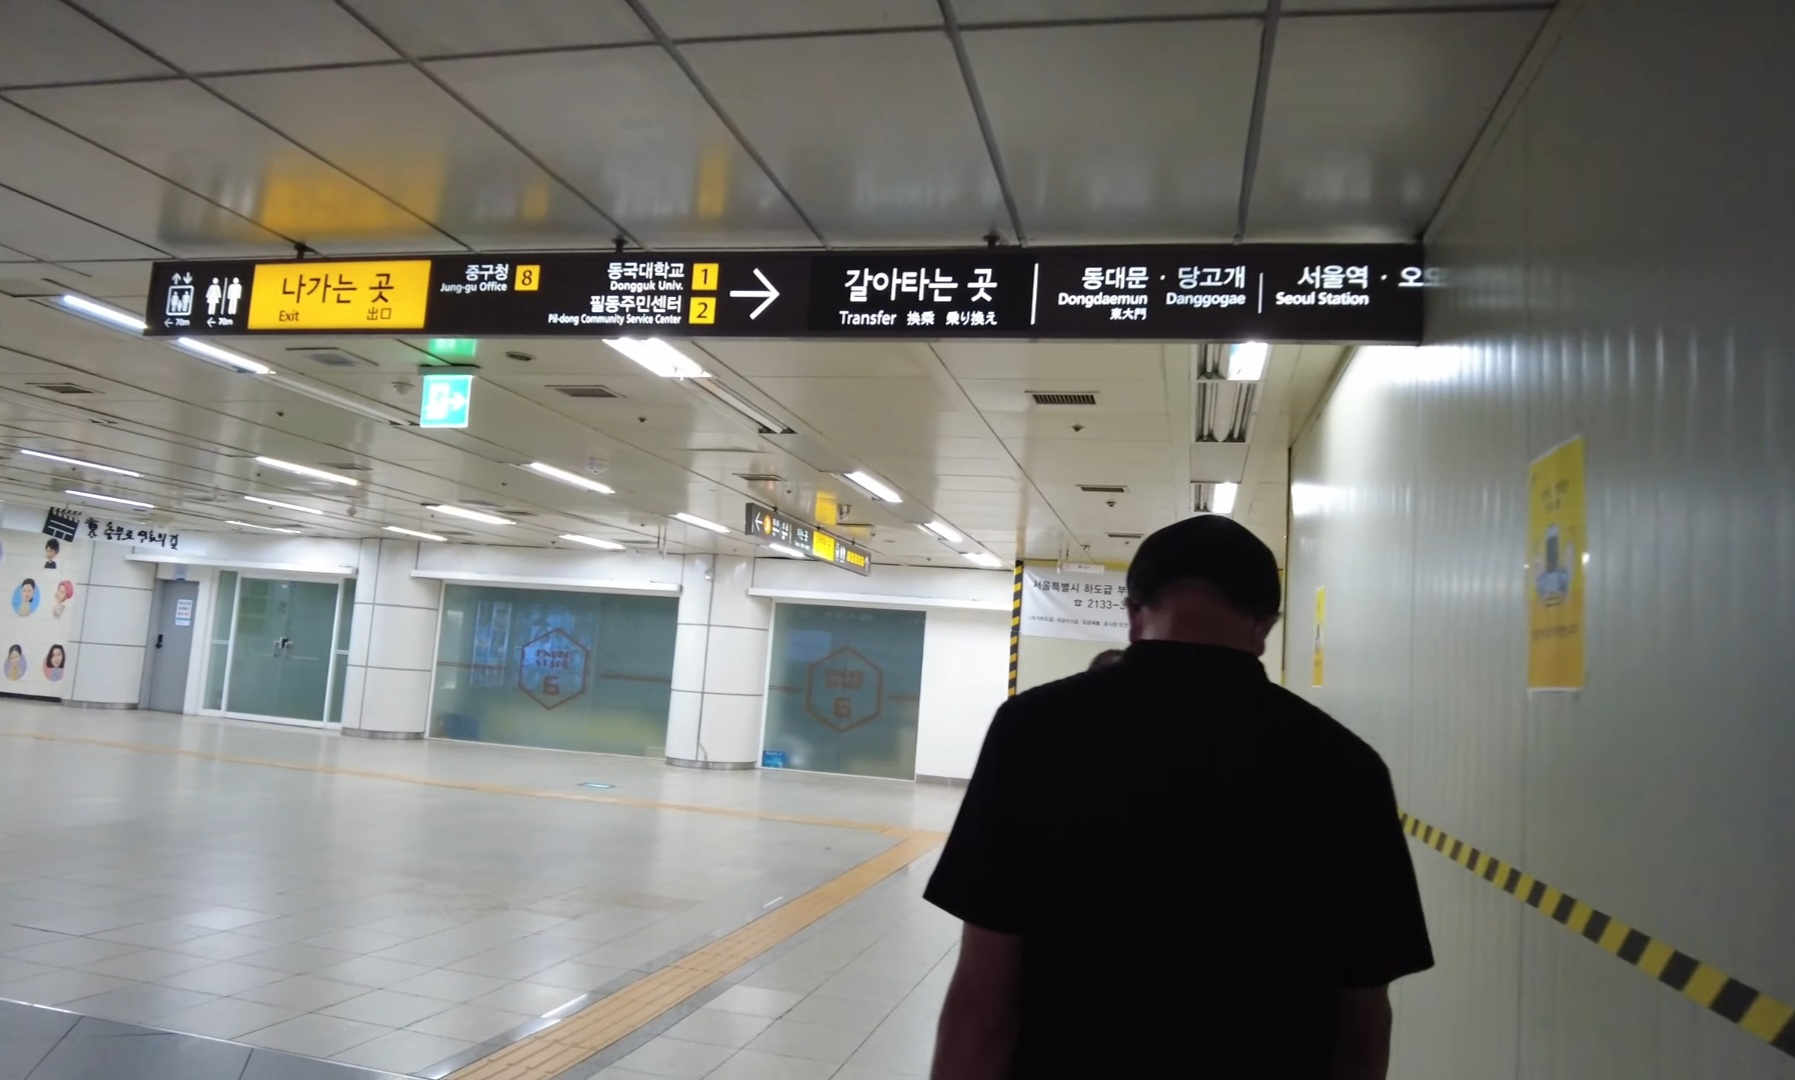signBoard: (135, 248, 1433, 349)
